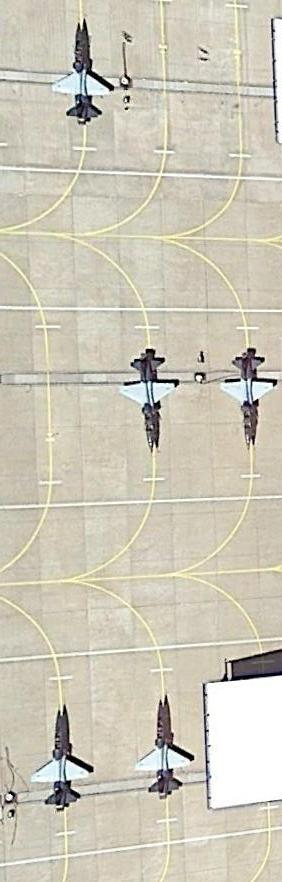plane: (117, 351, 181, 459), (49, 19, 114, 125), (28, 707, 91, 812), (219, 346, 279, 455), (131, 697, 191, 800)
